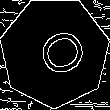O_SW: (23, 22, 86, 82)
